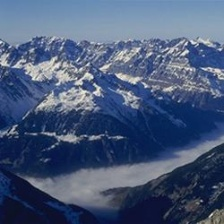neutral: (2, 1, 223, 221)
